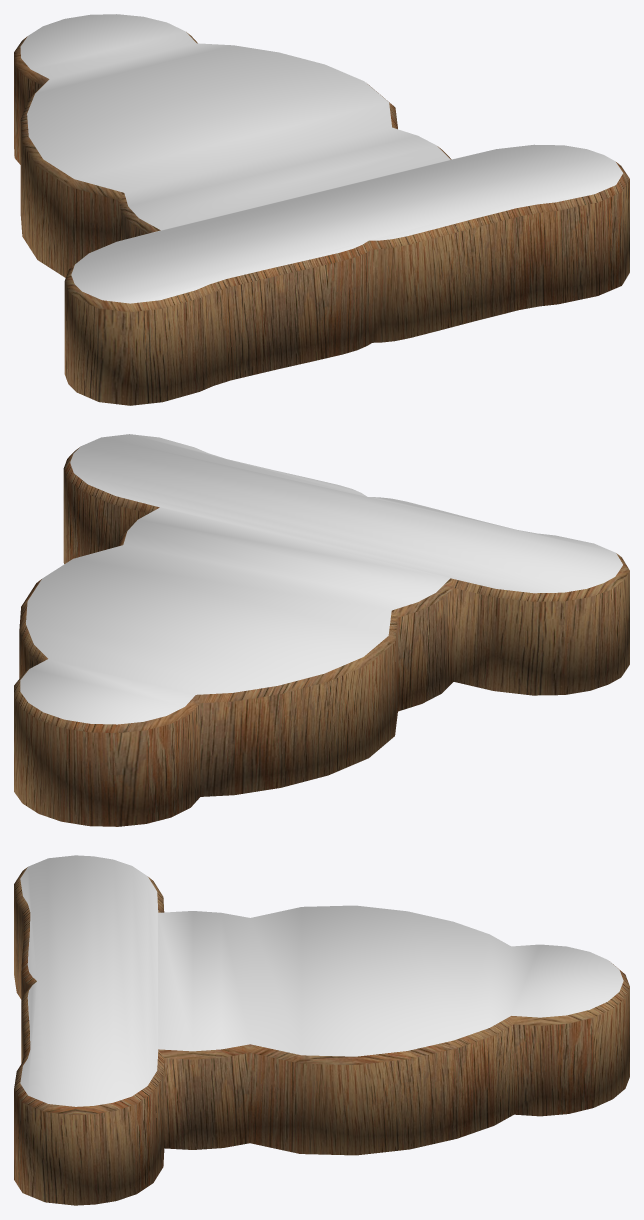
Rendered from flat3dpieces-bishop.gltf.
The picture shows the model from 3 angles, top to bottom: view 1: azimuth 30°, elevation 25°; view 2: azimuth 150°, elevation 25°; view 3: azimuth 270°, elevation 25°; orthographic projection. The views are drawn at different scales.
Size of the model in its own units: 1.46 by 0.255 by 1.48.
2 materials, 1 textured.
